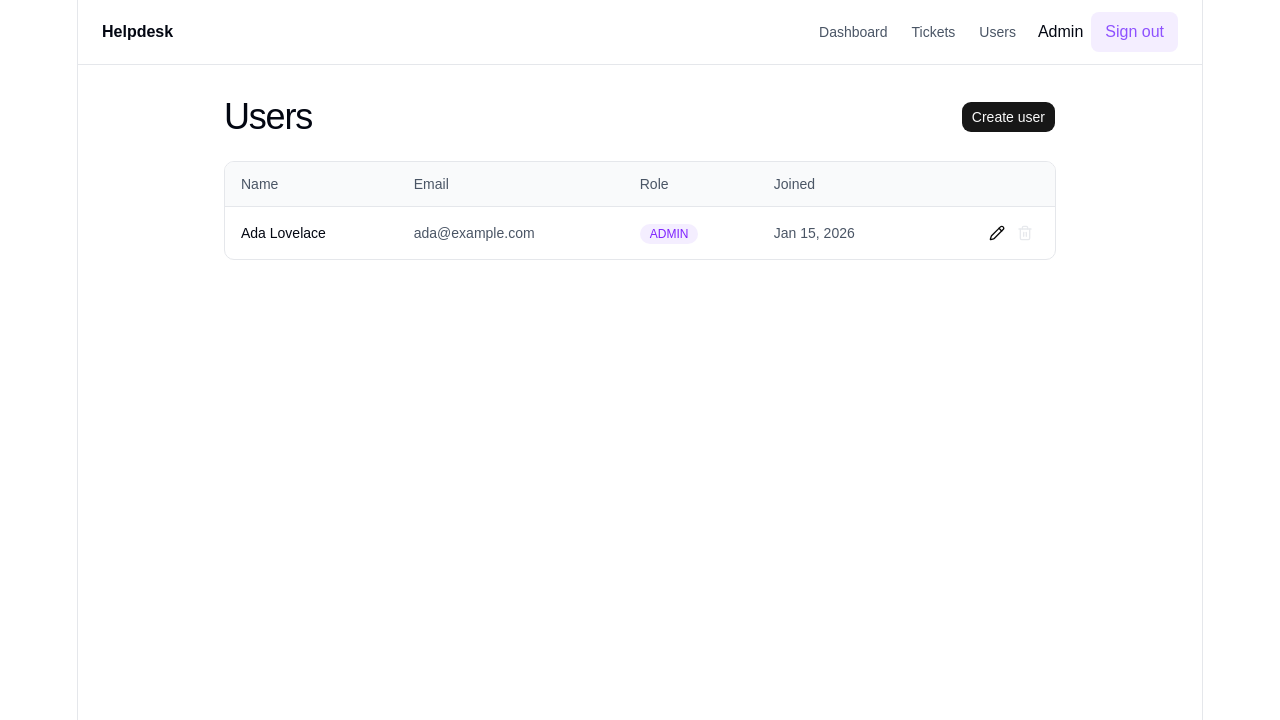
Test: UsersPage › opens the edit user modal prefilled with the selected user when the edit button is clicked
Expected: the text "Ada Lovelace" is shown, [225,206,398,259]
Click the button named "Edit Ada Lovelace": [997, 233] box [983,219,1011,247]
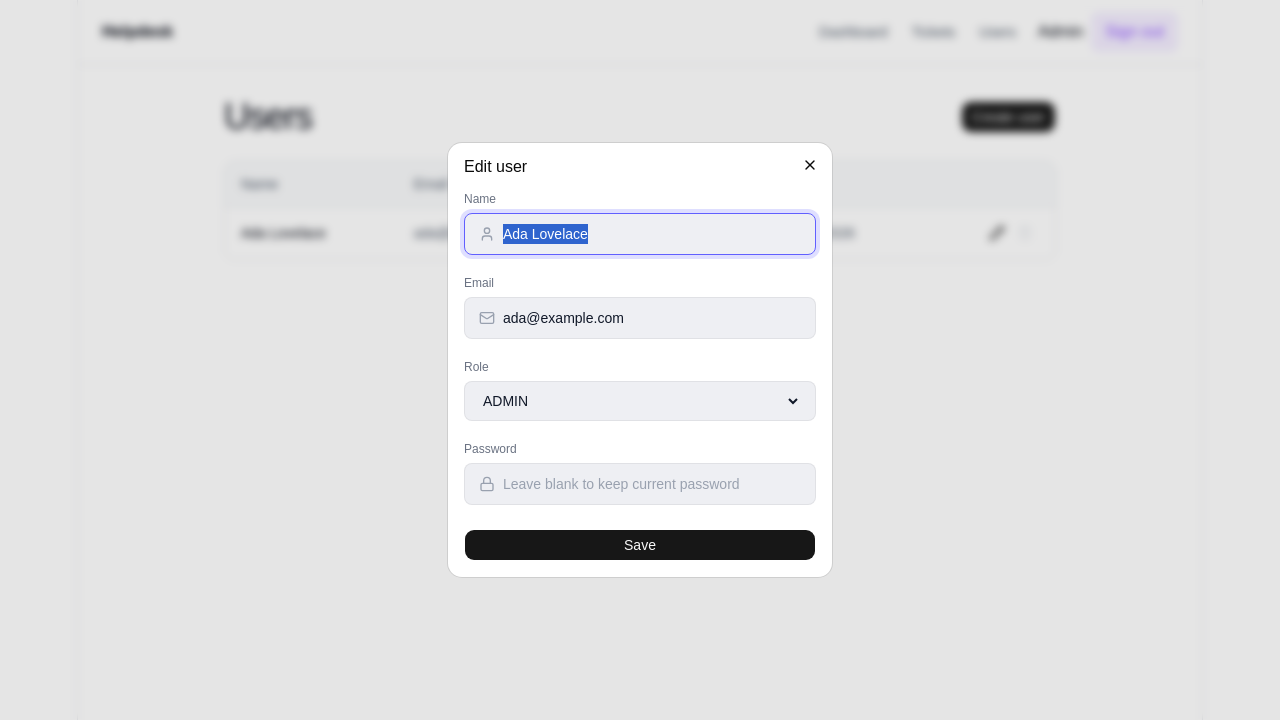
Expected: the dialog is shown, [448,143,832,577]
Expected: the heading "Edit user" is shown, [464,158,527,175]
Expected: the field labelled "Name" holds "Ada Lovelace", [503,224,801,244]
